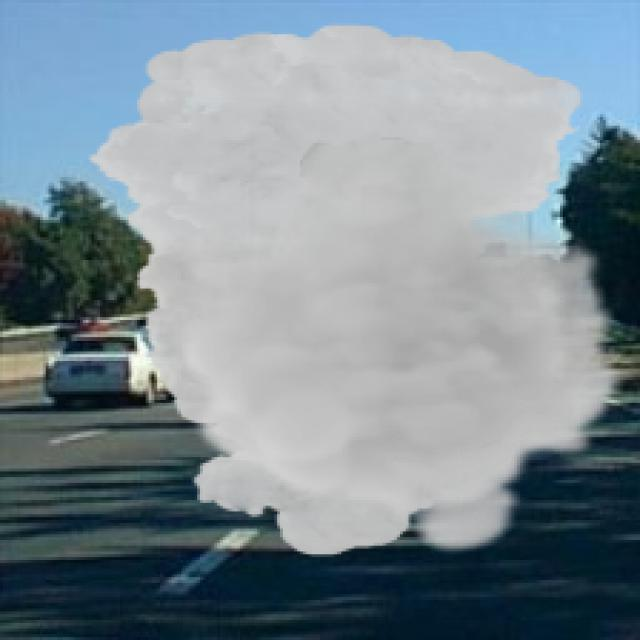smoke: (85, 23, 626, 557)
